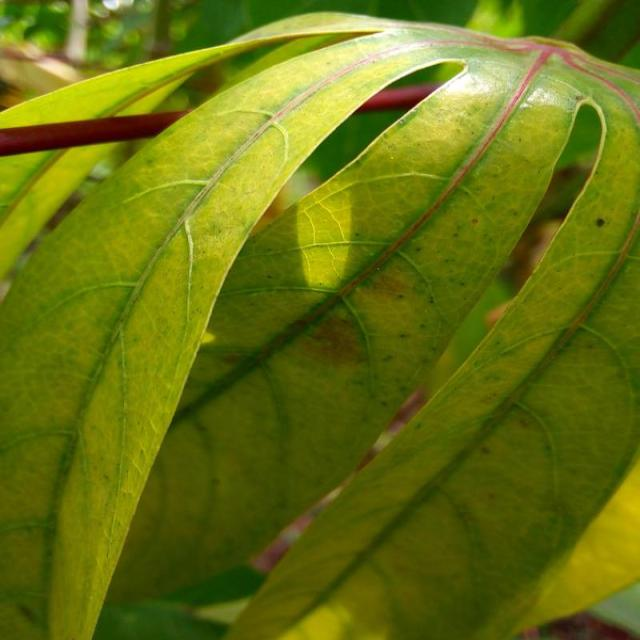cassava leaf: (2, 13, 640, 639)
